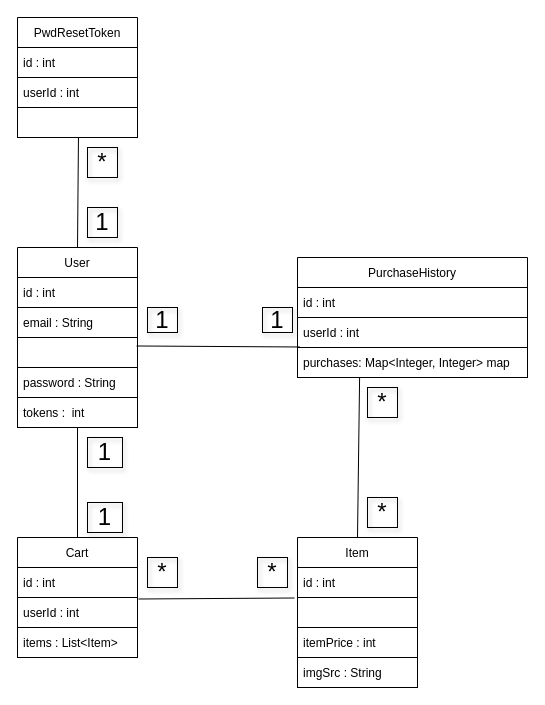
This 545x705 diagram has some shape labels left out. Each missing label, with the centre of its shape:
itemName : String: [357,612]
token : String: [77,122]
username : String: [77,352]
